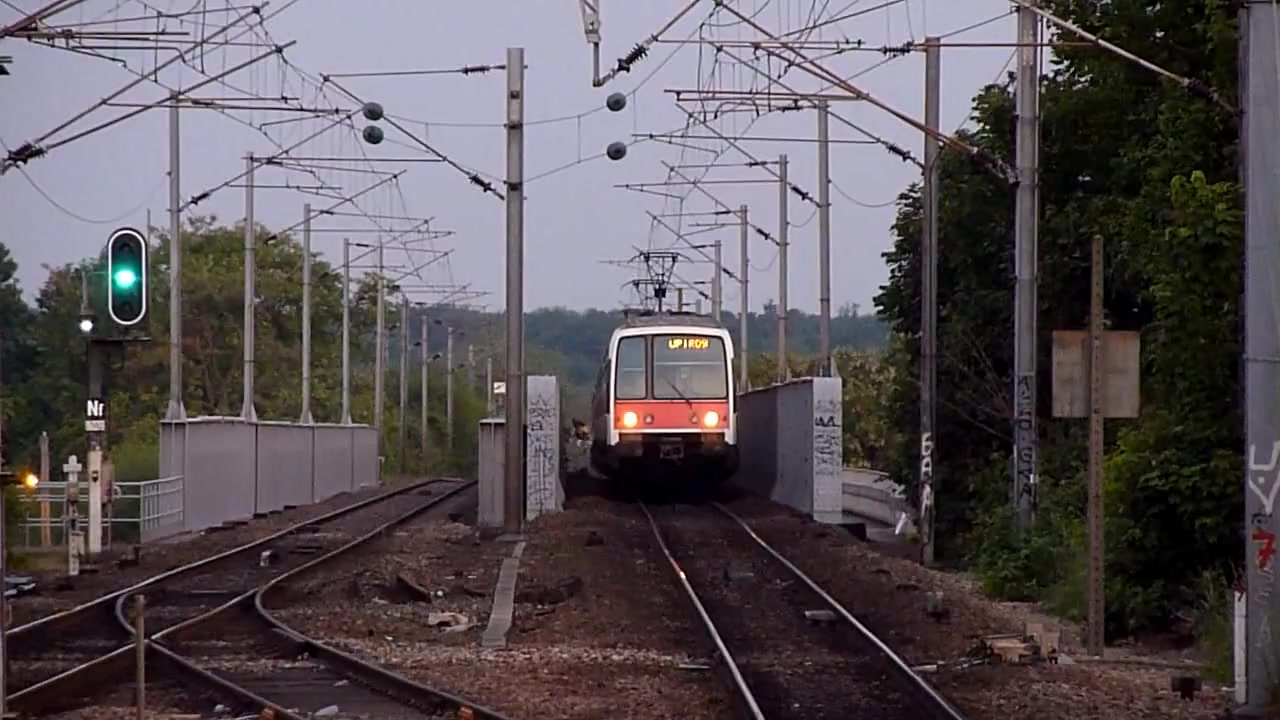train: (587, 309, 748, 478)
